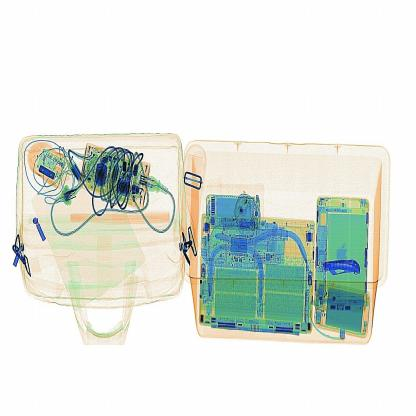knife: (318, 251, 365, 280)
